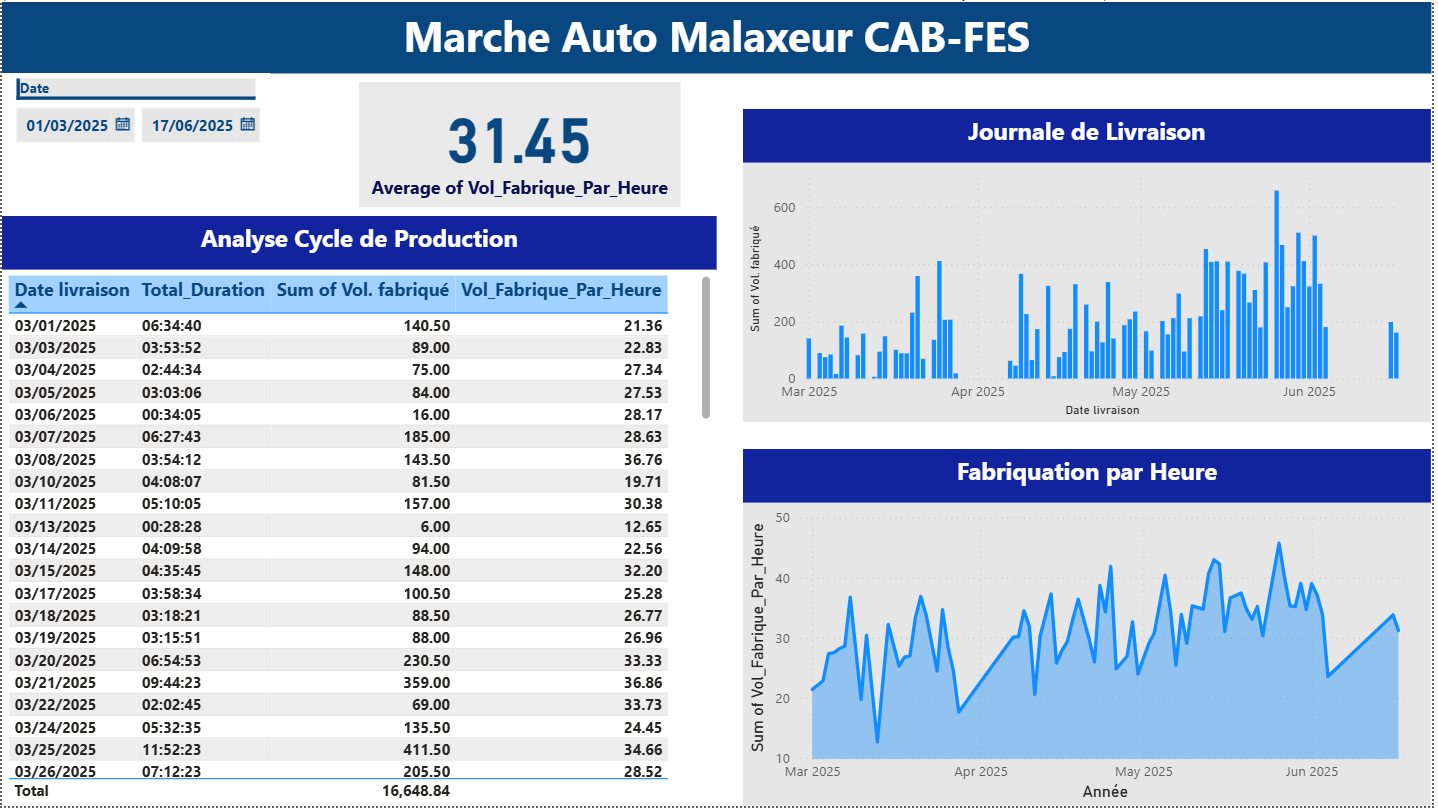

Layout of this report page (visuals, bound fields, positions):
{"tool":"powerbi","page":{"name":"Marche Auto Malaxeur CAB-FES","canvas":[1280,720],"ordinal":0},"visuals":[{"type":"lineStackedColumnComboChart","fields":{"Category":["livraison_0_2025-06-17-1610.Date livraison"],"Y":["Sum(livraison_0_2025-06-17-1610.Vol. fabriqué)"]},"box":[664,144,616,232],"z":0},{"type":"tableEx","fields":{"Values":["livraison_0_2025-06-17-1610.Date livraison","Malaxeur_Duration_Par_Jour.Total_Duration","Sum(livraison_0_2025-06-17-1610.Vol. fabriqué)","Malaxeur_Duration_Par_Jour.Vol_Fabrique_Par_Heure"]},"box":[0,240,640,480],"z":1000},{"type":"stackedAreaChart","fields":{"Y":["Sum(Malaxeur_Duration_Par_Jour.Vol_Fabrique_Par_Heure)"],"Category":["Malaxeur_Duration_Par_Jour.Date.Variation.Hiérarchie de dates.Année","Malaxeur_Duration_Par_Jour.Date.Variation.Hiérarchie de dates.Mois","Malaxeur_Duration_Par_Jour.Date.Variation.Hiérarchie de dates.Jour"]},"box":[664,448,616,272],"z":2000},{"type":"textbox","box":[0,0,1280,64],"z":3000},{"type":"textbox","box":[0,192,640,48],"z":4000},{"type":"textbox","box":[664,96,616,48],"z":5000},{"type":"textbox","box":[664,400,616,48],"z":6000},{"type":"card","fields":{"Values":["Avg(Malaxeur_Duration_Par_Jour.Vol_Fabrique_Par_Heure)"]},"box":[320,72,288,112],"z":7000},{"type":"slicer","fields":{"Values":["Malaxeur_Duration_Par_Jour.Date"]},"box":[0,64,240,96],"z":8000}]}

Visuals, with their boxes in screenshot pixels (x1, y1, x2, y2), scaled from the page's 1280x720 canvas onto the 1438x809 screenshot:
lineStackedColumnComboChart - livraison_0_2025-06-17-1610.Date livraison x Sum(livraison_0_2025-06-17-1610.Vol. fabriqué): (left=746, top=162, right=1437, bottom=422)
tableEx - livraison_0_2025-06-17-1610.Date livraison x Malaxeur_Duration_Par_Jour.Total_Duration: (left=0, top=270, right=719, bottom=808)
stackedAreaChart - Sum(Malaxeur_Duration_Par_Jour.Vol_Fabrique_Par_Heure) x Malaxeur_Duration_Par_Jour.Date.Variation.Hiérarchie de dates.Année: (left=746, top=503, right=1437, bottom=808)
textbox: (left=0, top=0, right=1437, bottom=72)
textbox: (left=0, top=216, right=719, bottom=270)
textbox: (left=746, top=108, right=1437, bottom=162)
textbox: (left=746, top=449, right=1437, bottom=503)
card - Avg(Malaxeur_Duration_Par_Jour.Vol_Fabrique_Par_Heure): (left=360, top=81, right=683, bottom=207)
slicer - Malaxeur_Duration_Par_Jour.Date: (left=0, top=72, right=270, bottom=180)
